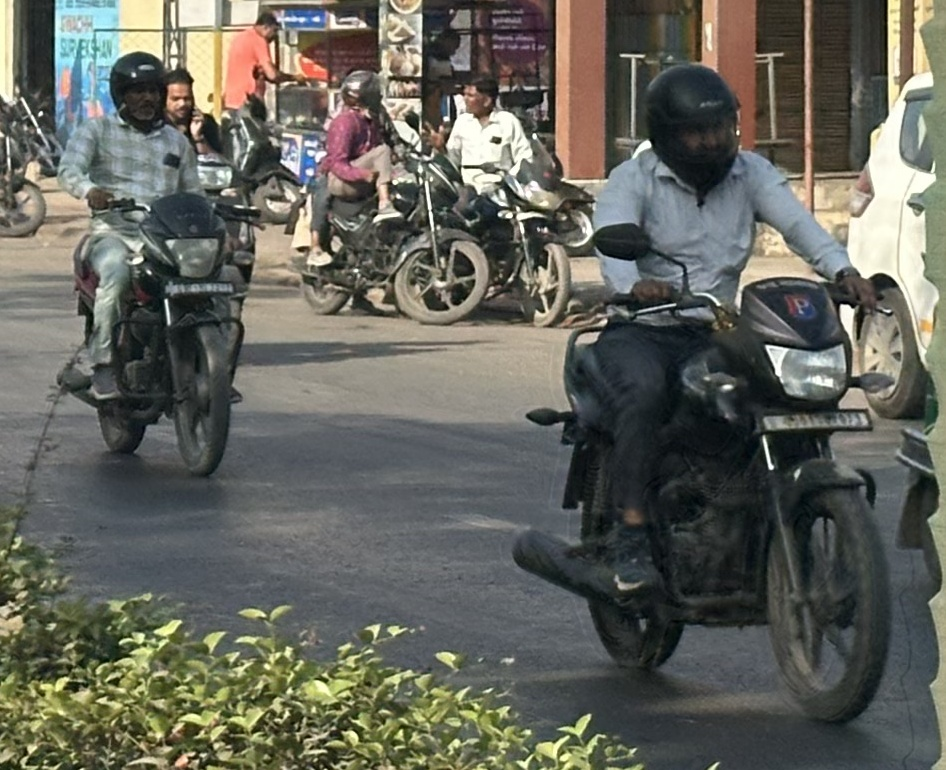BikeWithRider: (509, 60, 897, 729), (52, 50, 262, 478), (287, 67, 498, 327), (435, 70, 580, 332), (159, 65, 255, 292)
Helmet: (639, 60, 746, 196), (336, 67, 387, 116)
NoHelmet: (108, 50, 171, 129), (161, 66, 198, 119), (459, 74, 497, 119)
